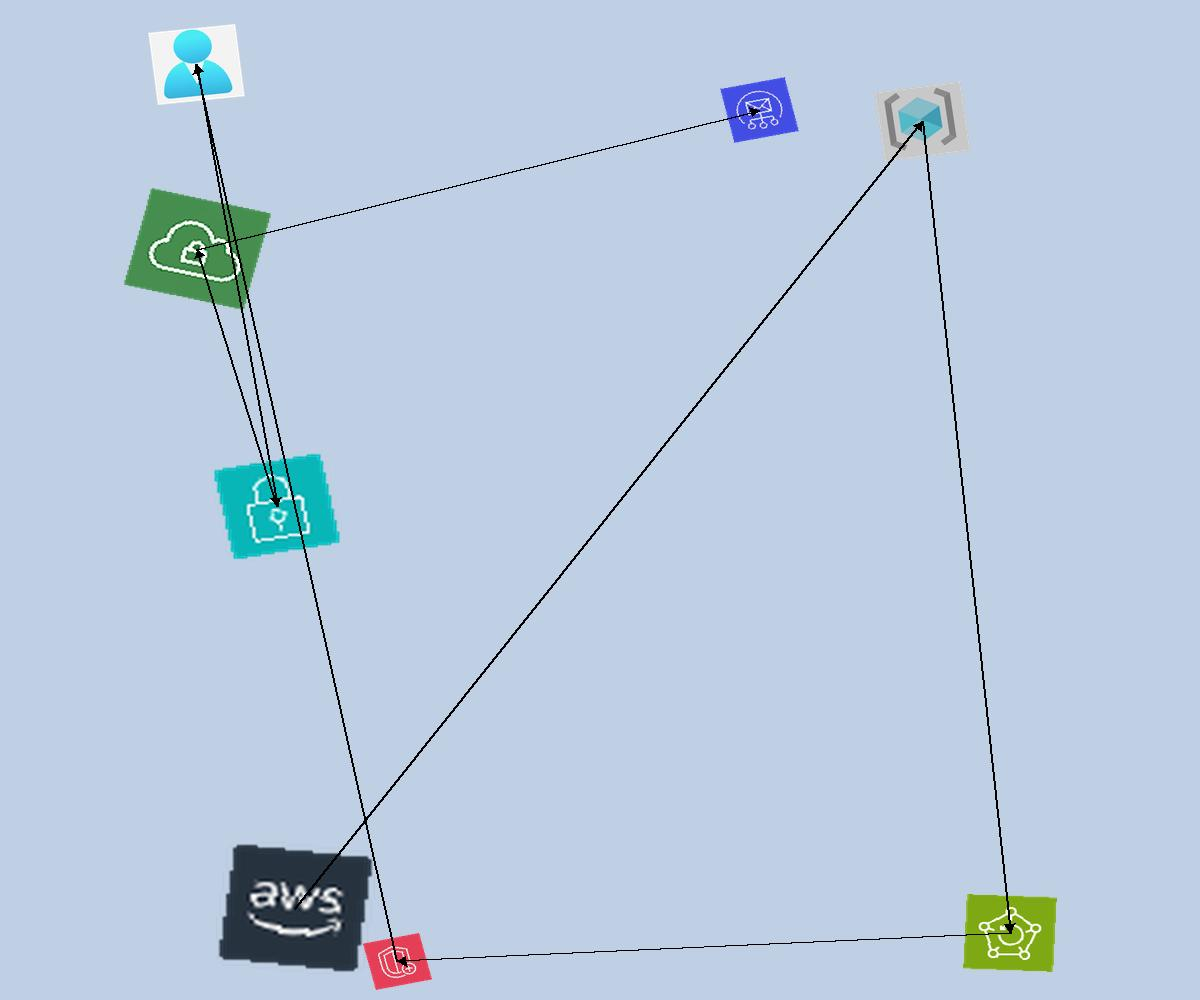AWS-Backup: (963, 894, 1057, 972)
AWS-Cloud-logo: (216, 842, 375, 974)
AWS-Private-subnet: (212, 452, 342, 561)
AWS-Private_vpc: (123, 187, 272, 311)
AWS-Shield: (363, 933, 432, 990)
AWS-Simple-Email-Service: (720, 77, 799, 143)
Azure_resource_group: (874, 81, 971, 162)
Azure_users: (148, 24, 245, 105)
